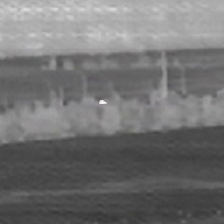Target: (97, 99, 108, 106)
